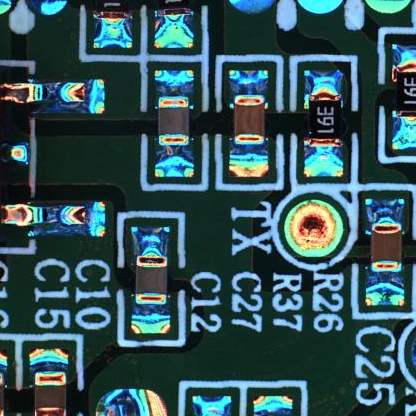spot: (278, 192, 351, 264)
